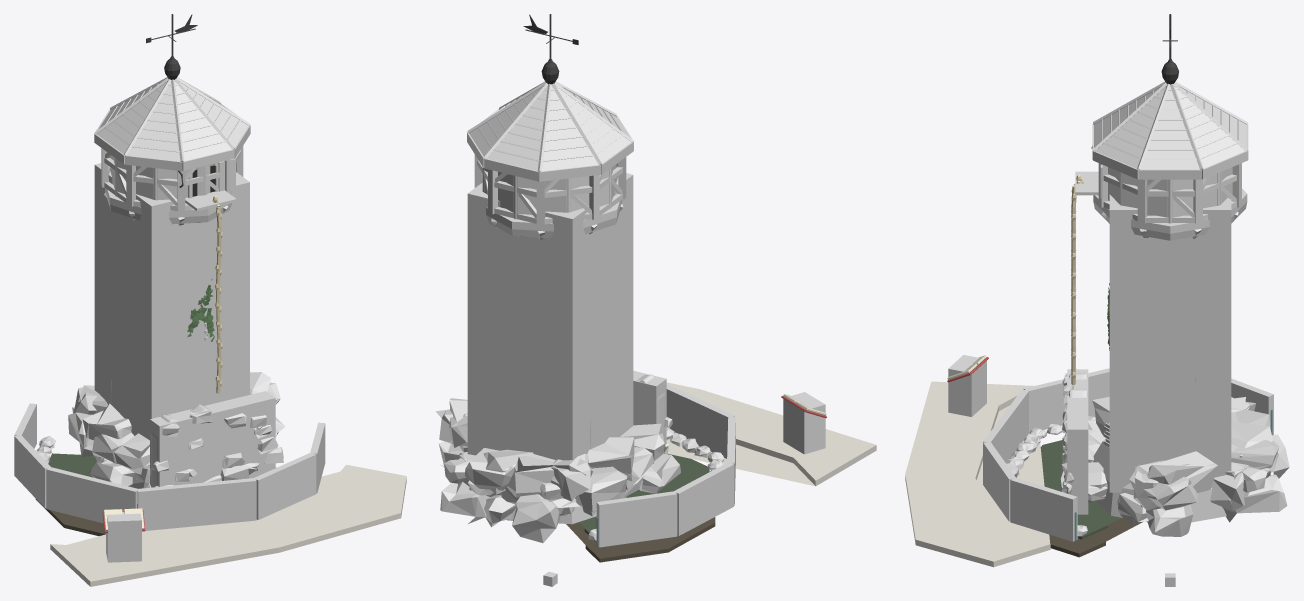
Rendered from RA_toren.fbx.
3 views of the same model, side by side, from view 1: azimuth 30°, elevation 25°; view 2: azimuth 150°, elevation 25°; view 3: azimuth 270°, elevation 25° (orthographic). The views are drawn at different scales.
Parts seen in each view (by area): view 1: COLL_0, static__MAT_grind_0, static__TEX_rots_0, static__TEX_hout_0, static__TEX_lei_0, COLL_1, COLL_5, COLL_4, COLL_6, COLL_8, static__TEX_vakvlak_0, COLL_3 (+7 smaller); view 2: COLL_0, static__TEX_rots_0, static__TEX_hout_0, static__TEX_lei_0, static__MAT_grind_0, COLL_2, COLL_5, COLL_3, static__TEX_vakvlak_0, COLL_8, static__MAT_modder_0, COLL_1 (+2 smaller); view 3: COLL_0, static__TEX_rots_0, static__MAT_grind_0, static__TEX_hout_0, static__TEX_lei_0, COLL_7, static__TEX_vakvlak_0, COLL_1, COLL_4, COLL_8, static__MAT_water_0, COLL_5 (+4 smaller).
Part boxes in pixels (<box>): COLL_0: <box>94,163,249,440</box>; static__MAT_grind_0: <box>50,464,406,586</box>; static__TEX_rots_0: <box>36,372,285,488</box>; static__TEX_hout_0: <box>94,77,250,225</box>; static__TEX_lei_0: <box>96,81,248,161</box>; COLL_1: <box>150,391,275,487</box>; COLL_5: <box>137,478,256,530</box>; COLL_4: <box>46,467,137,523</box>; COLL_6: <box>254,452,316,519</box>; COLL_8: <box>106,512,141,562</box>; static__TEX_vakvlak_0: <box>110,156,235,203</box>; COLL_3: <box>14,435,51,508</box>; COLL_0: <box>467,173,633,460</box>; static__TEX_rots_0: <box>436,374,724,543</box>; static__TEX_hout_0: <box>467,81,633,240</box>; static__TEX_lei_0: <box>469,86,631,171</box>; static__MAT_grind_0: <box>666,382,876,486</box>; COLL_2: <box>596,491,677,547</box>; COLL_5: <box>666,384,734,458</box>; COLL_3: <box>673,463,733,535</box>; static__TEX_vakvlak_0: <box>482,164,618,219</box>; COLL_8: <box>783,392,825,454</box>; static__MAT_modder_0: <box>566,517,715,562</box>; COLL_1: <box>633,370,666,453</box>; COLL_0: <box>1109,194,1231,492</box>; static__TEX_rots_0: <box>1005,373,1289,536</box>; static__MAT_grind_0: <box>905,381,1050,567</box>; static__TEX_hout_0: <box>1075,81,1248,240</box>; static__TEX_lei_0: <box>1094,85,1246,169</box>; COLL_7: <box>1010,477,1077,541</box>; static__TEX_vakvlak_0: <box>1108,167,1232,223</box>; COLL_1: <box>1067,369,1088,514</box>; COLL_4: <box>1023,368,1109,433</box>; COLL_8: <box>948,355,986,416</box>; static__MAT_water_0: <box>1040,440,1121,539</box>; COLL_5: <box>983,389,1029,462</box>.
Bounding box in the file's own units: 8.2 × 12.11 × 7.4.
